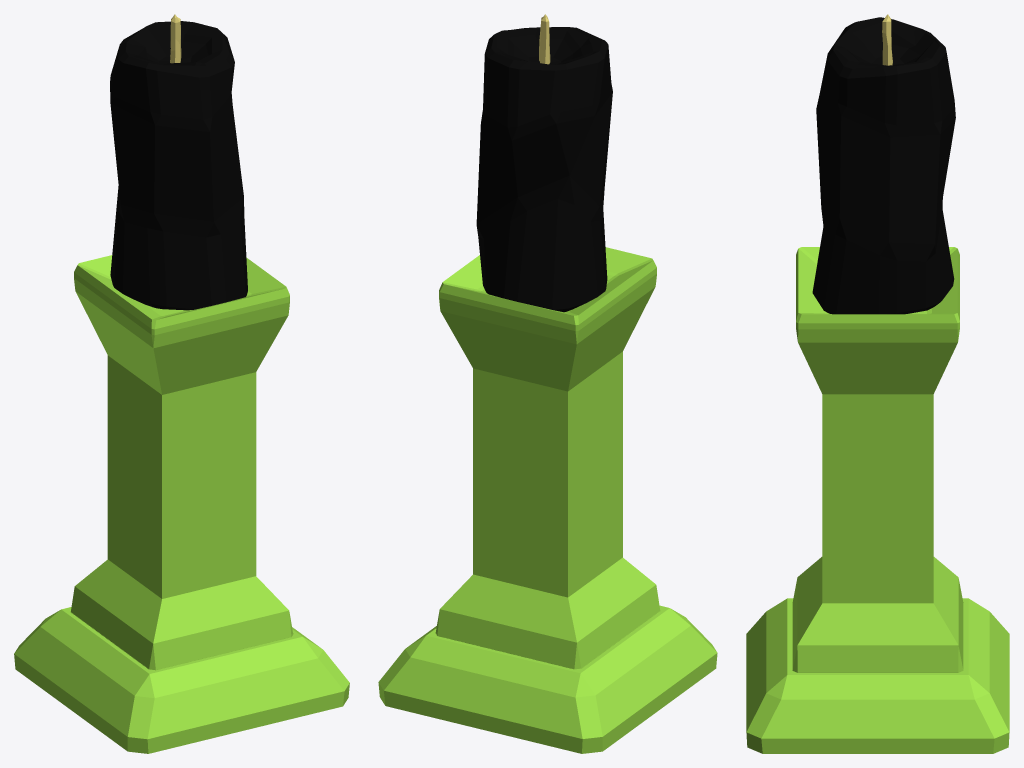
File: świeczka_na_podstawce.fbx
The picture shows the model from 3 angles, left to right: view 1: azimuth 30°, elevation 25°; view 2: azimuth 150°, elevation 25°; view 3: azimuth 270°, elevation 25°; orthographic projection. The views are drawn at different scales.
Parts seen in each view (by area): view 1: Cube; view 2: Cube; view 3: Cube.
Part boxes in pixels (box(x1,y1,x2,y2)): Cube: box(14, 14, 349, 753); Cube: box(378, 14, 717, 753); Cube: box(746, 14, 1009, 753).
Size of the model in its own units: 472 by 1355 by 472.
